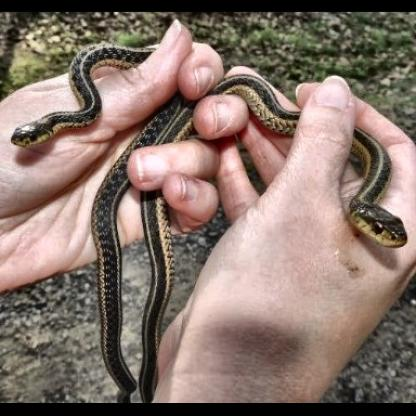Snake: (9, 42, 410, 360)
